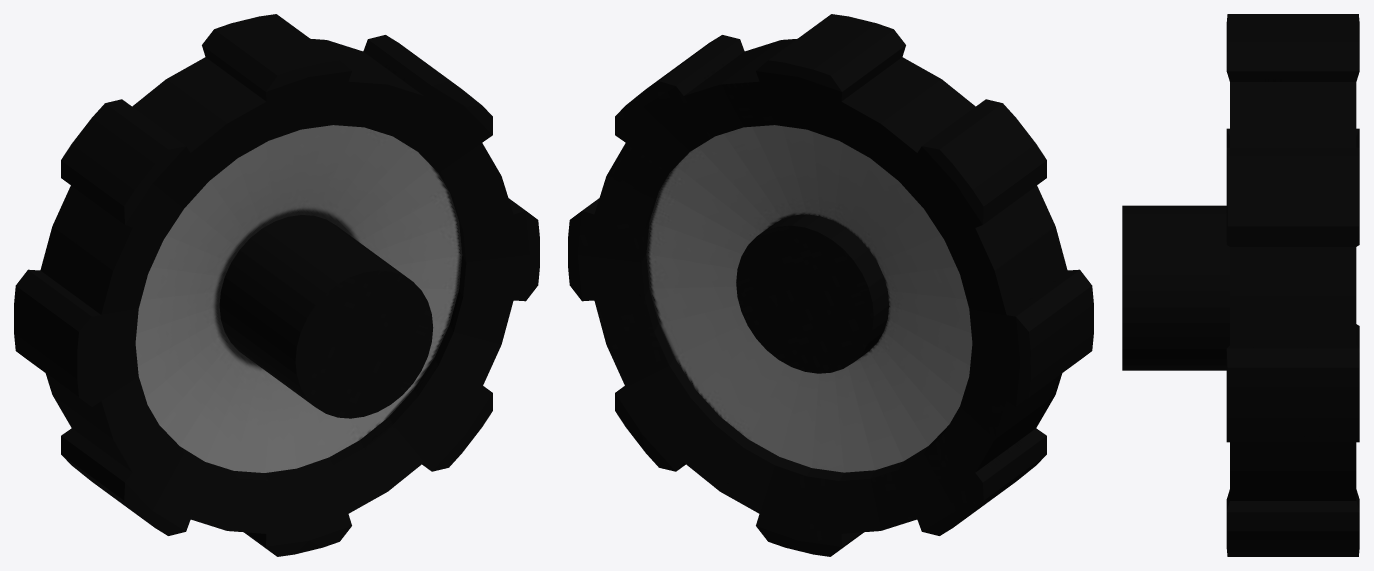
Rendered from wheel8.dae.
3 views of the same model, side by side, from view 1: azimuth 30°, elevation 25°; view 2: azimuth 150°, elevation 25°; view 3: azimuth 270°, elevation 25° (orthographic). The views are drawn at different scales.
Parts seen in each view (by area): view 1: Cylinder; view 2: Cylinder; view 3: Cylinder.
Part boxes in pixels (x1=…): Cylinder: x1=14, y1=14, x2=539, y2=556; Cylinder: x1=568, y1=14, x2=1093, y2=556; Cylinder: x1=1122, y1=14, x2=1359, y2=556.
Size of the model in its own units: 1.76 by 0.7523 by 1.76.
1 material, 1 textured.
